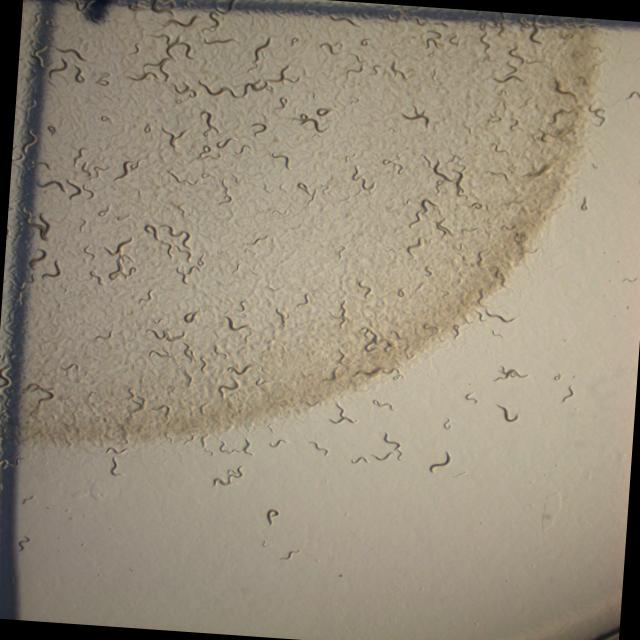filarid: (145, 224, 192, 262), (350, 432, 401, 464), (105, 237, 136, 280), (212, 465, 244, 487), (105, 446, 128, 476), (291, 113, 326, 132), (329, 401, 356, 424), (352, 165, 374, 193), (218, 438, 253, 455), (402, 106, 429, 128), (427, 450, 451, 473), (145, 328, 185, 341), (225, 316, 252, 334), (479, 310, 512, 323), (41, 260, 61, 278), (118, 160, 138, 178), (218, 380, 238, 397), (177, 266, 196, 283), (28, 249, 45, 267), (38, 214, 49, 241), (381, 159, 402, 173), (227, 364, 253, 375), (310, 441, 329, 456), (199, 435, 213, 455), (371, 399, 394, 411), (265, 509, 279, 526), (272, 154, 289, 167), (502, 407, 517, 421), (500, 368, 521, 378), (212, 345, 227, 358), (314, 107, 333, 117), (183, 343, 194, 360), (89, 270, 102, 284), (269, 437, 286, 447), (183, 312, 198, 322), (84, 246, 95, 259), (296, 182, 308, 193), (265, 424, 275, 436), (199, 357, 206, 372), (345, 153, 356, 161), (453, 324, 459, 338), (79, 220, 86, 231), (465, 394, 476, 400), (443, 419, 449, 429), (44, 181, 58, 185), (197, 254, 201, 265), (395, 154, 398, 160)
